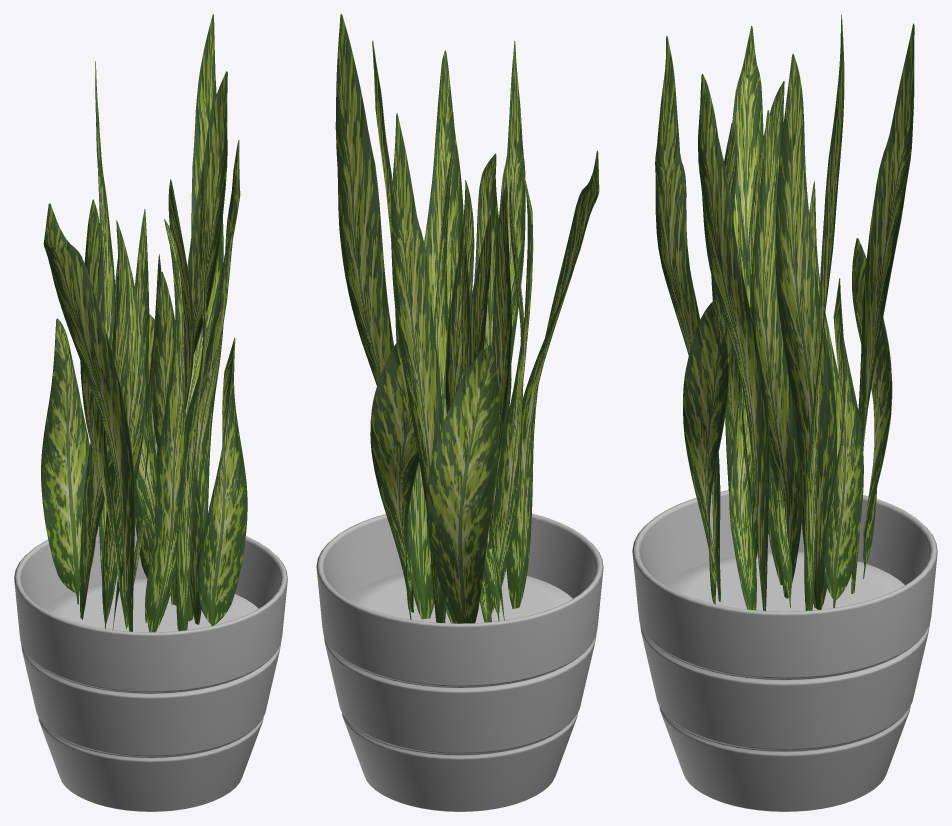
Rendered from plant.fbx.
3 views of the same model, side by side, from view 1: azimuth 30°, elevation 25°; view 2: azimuth 150°, elevation 25°; view 3: azimuth 270°, elevation 25° (orthographic). The views are drawn at different scales.
Visible parts, largest first — view 1: Furniture plant A, Furniture plant pot; view 2: Furniture plant A, Furniture plant pot; view 3: Furniture plant A, Furniture plant pot.
Boxes of the visible parts, <box> form: Furniture plant A: <box>41,14,247,632</box>; Furniture plant pot: <box>14,523,287,811</box>; Furniture plant A: <box>335,14,599,623</box>; Furniture plant pot: <box>316,513,603,811</box>; Furniture plant A: <box>655,14,914,610</box>; Furniture plant pot: <box>632,490,937,811</box>.
Bounding box in the file's own units: 7.22 × 20.89 × 7.2.
